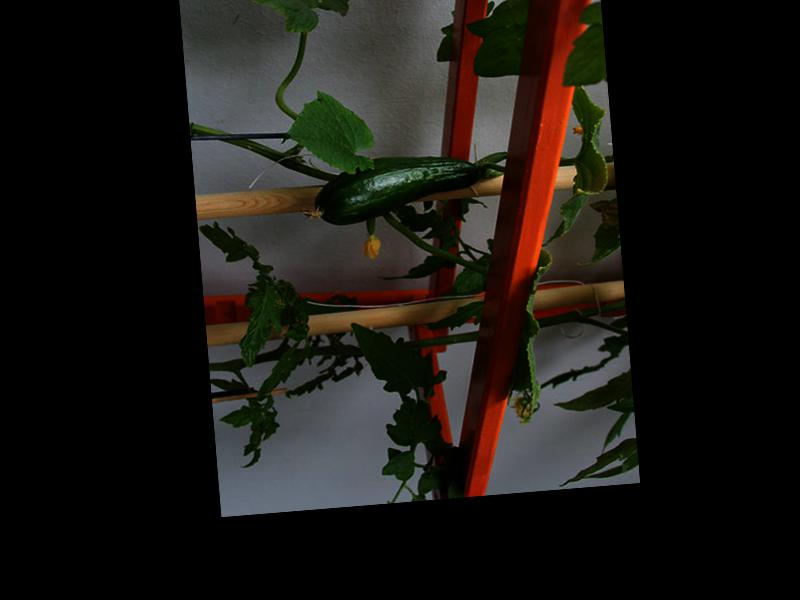Cucumber: (299, 150, 482, 228)
